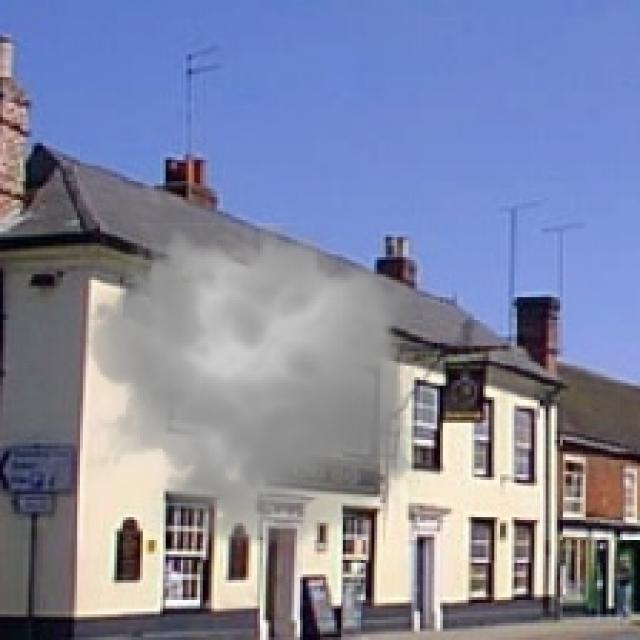Smoke: (74, 208, 429, 558)
